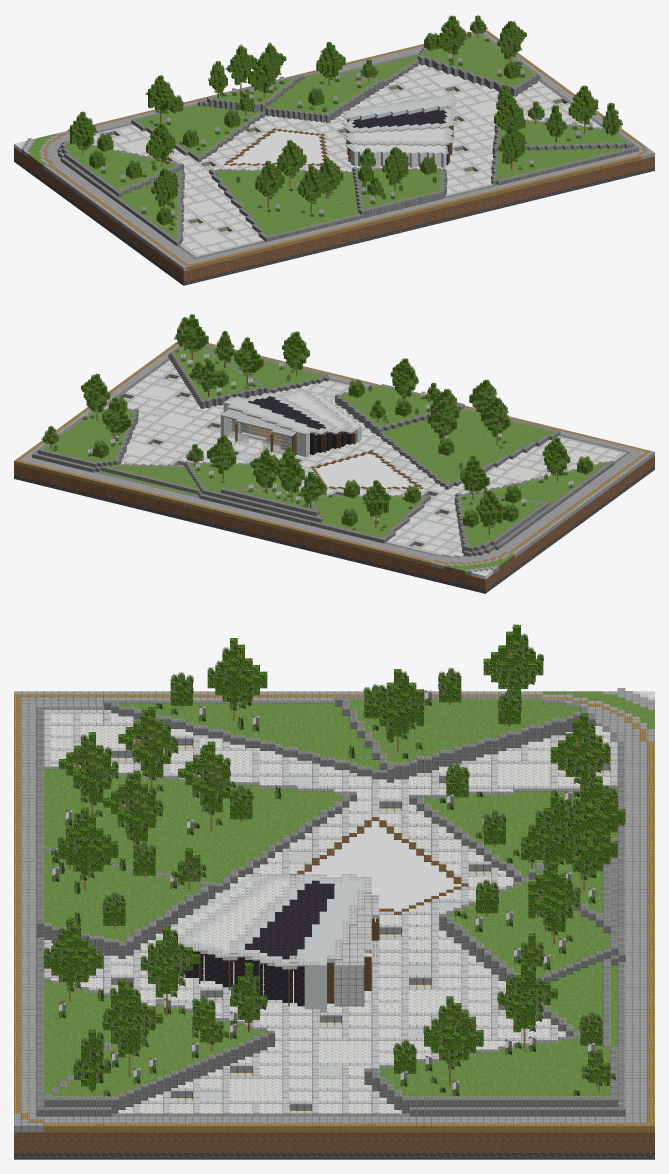
3 views of the same model, one above another, from view 1: azimuth 30°, elevation 25°; view 2: azimuth 150°, elevation 25°; view 3: azimuth 270°, elevation 25° (orthographic). The views are drawn at different scales.
Visible parts, largest first — view 1: flat_world_city__-556_-64_-896_to_-419_319_-811; view 2: flat_world_city__-556_-64_-896_to_-419_319_-811; view 3: flat_world_city__-556_-64_-896_to_-419_319_-811.
Boxes of the visible parts, left/top/right/bottom form: flat_world_city__-556_-64_-896_to_-419_319_-811: left=14, top=15, right=654, bottom=285; flat_world_city__-556_-64_-896_to_-419_319_-811: left=14, top=314, right=654, bottom=593; flat_world_city__-556_-64_-896_to_-419_319_-811: left=14, top=624, right=654, bottom=1159.
Size of the model in its own units: 138 by 22 by 86.
35 materials, 28 textured.
